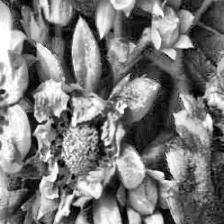Blossom Blight: (48, 98, 115, 195)
